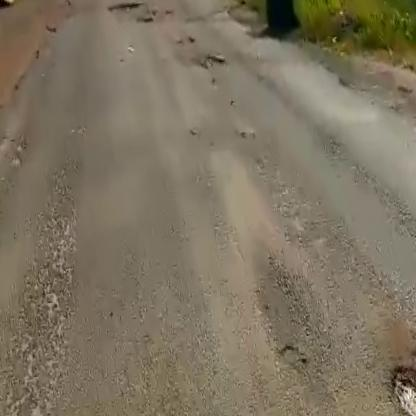pothole: (382, 354, 416, 416), (188, 50, 231, 75)
